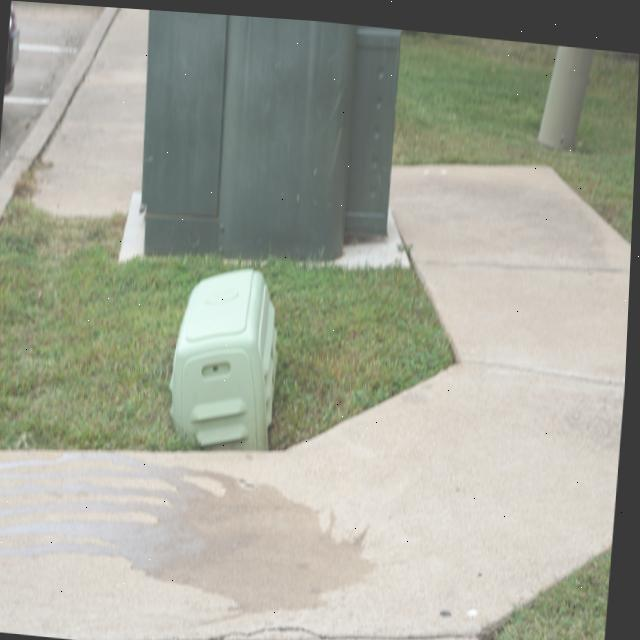Obstacle: (143, 8, 401, 255), (220, 12, 358, 254), (173, 265, 279, 446), (539, 37, 594, 141)
Sidewalk: (0, 155, 633, 640), (4, 5, 147, 208)
